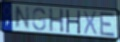E: (99, 11, 116, 38)
G: (32, 7, 47, 32)
H: (48, 8, 65, 34), (65, 9, 81, 35)
N: (14, 5, 31, 31)
X: (83, 10, 98, 37)
